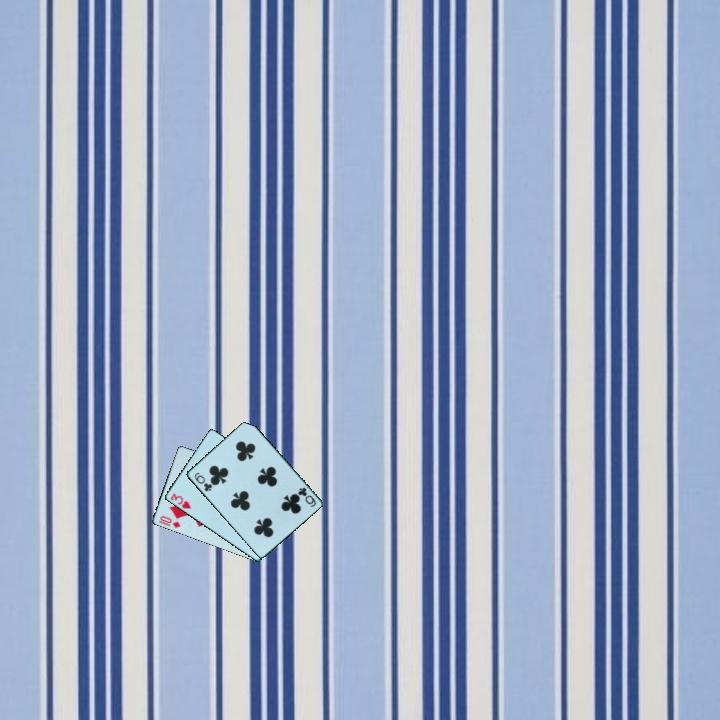10d: (155, 512, 183, 531)
3h: (167, 490, 194, 512)
6c: (294, 483, 319, 510), (191, 469, 215, 494)
